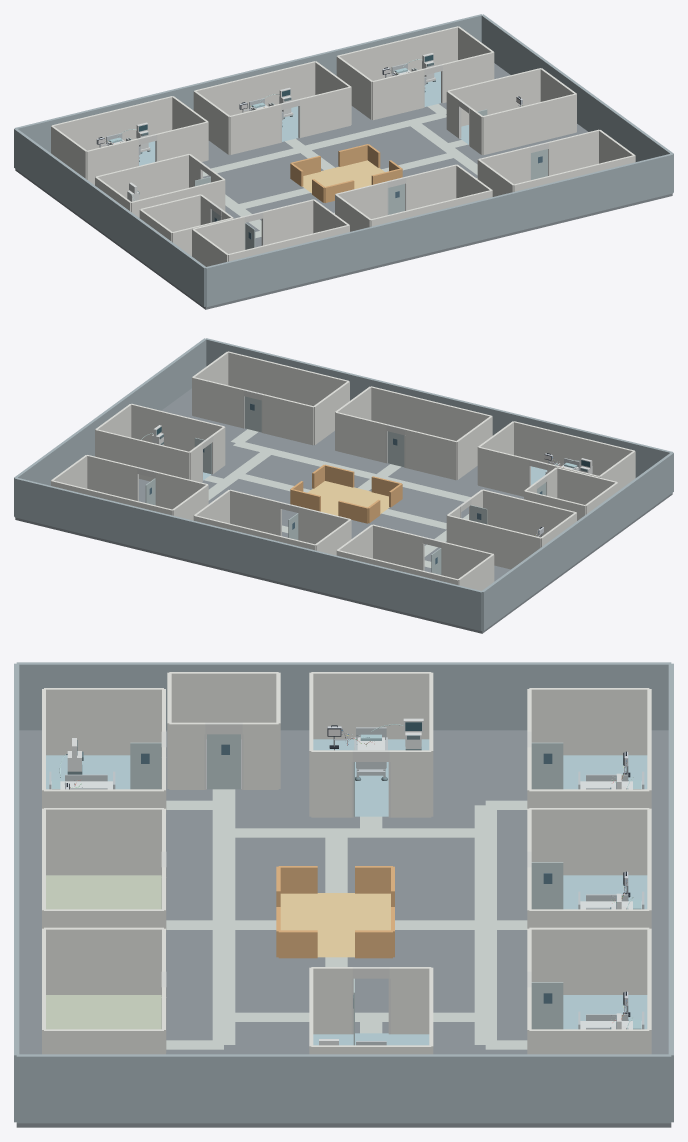
Rendered from ward_floor_02.glb.
3 renders of one model, top to bottom at view 1: azimuth 30°, elevation 25°; view 2: azimuth 150°, elevation 25°; view 3: azimuth 270°, elevation 25°, orthographic. The views are drawn at different scales.
Visible parts, largest first — view 1: F02 | Entire floor | single wall unit, F02 | Entire floor | one continuous unit, F02 | Room 07 door leaf, F02 | Room 08 door leaf; view 2: F02 | Entire floor | single wall unit, F02 | Entire floor | one continuous unit, F02 | Room 08 door leaf, F02 | Room 07 door leaf; view 3: F02 | Entire floor | single wall unit, F02 | Entire floor | one continuous unit, F02 | Elevator door leaf, F02 | Room 03 door leaf, F02 | Room 02 door leaf, F02 | Room 01 door leaf, F02 | Room 06 door leaf.
Boxes of the visible parts, x1,y1,x2,y2 form: F02 | Entire floor | single wall unit: (14,14,673,307); F02 | Entire floor | one continuous unit: (15,63,672,309); F02 | Room 07 door leaf: (388,184,404,214); F02 | Room 08 door leaf: (531,149,547,179); F02 | Entire floor | single wall unit: (14,338,673,631); F02 | Entire floor | one continuous unit: (15,388,672,633); F02 | Room 08 door leaf: (244,396,261,432); F02 | Room 07 door leaf: (387,431,404,466); F02 | Entire floor | single wall unit: (14,662,673,1123); F02 | Entire floor | one continuous unit: (16,730,671,1127); F02 | Elevator door leaf: (207,734,240,789); F02 | Room 03 door leaf: (531,982,563,1029); F02 | Room 02 door leaf: (531,862,563,909); F02 | Room 01 door leaf: (531,742,563,789); F02 | Room 06 door leaf: (130,742,161,789).
Bounding box in the file's own units: 34.2 × 2.92 × 24.2.
